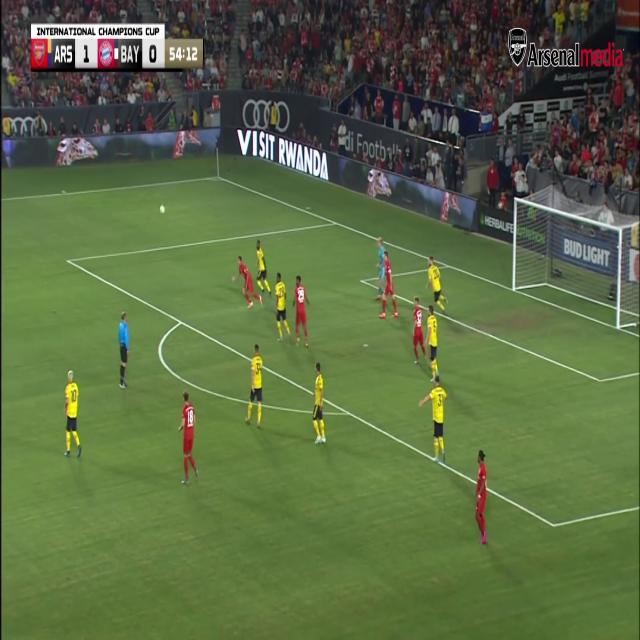Ball: (158, 202, 168, 220)
GoalKeeper: (376, 230, 386, 302)
TEAM 1: (470, 445, 492, 550), (179, 396, 199, 487), (235, 256, 264, 311), (292, 274, 312, 351), (382, 251, 399, 325), (411, 292, 425, 359)
TEAM 2: (417, 382, 448, 466), (62, 371, 82, 462), (249, 345, 266, 431), (312, 363, 328, 444), (272, 272, 290, 342), (425, 305, 440, 381), (428, 256, 444, 309), (253, 240, 269, 287)
